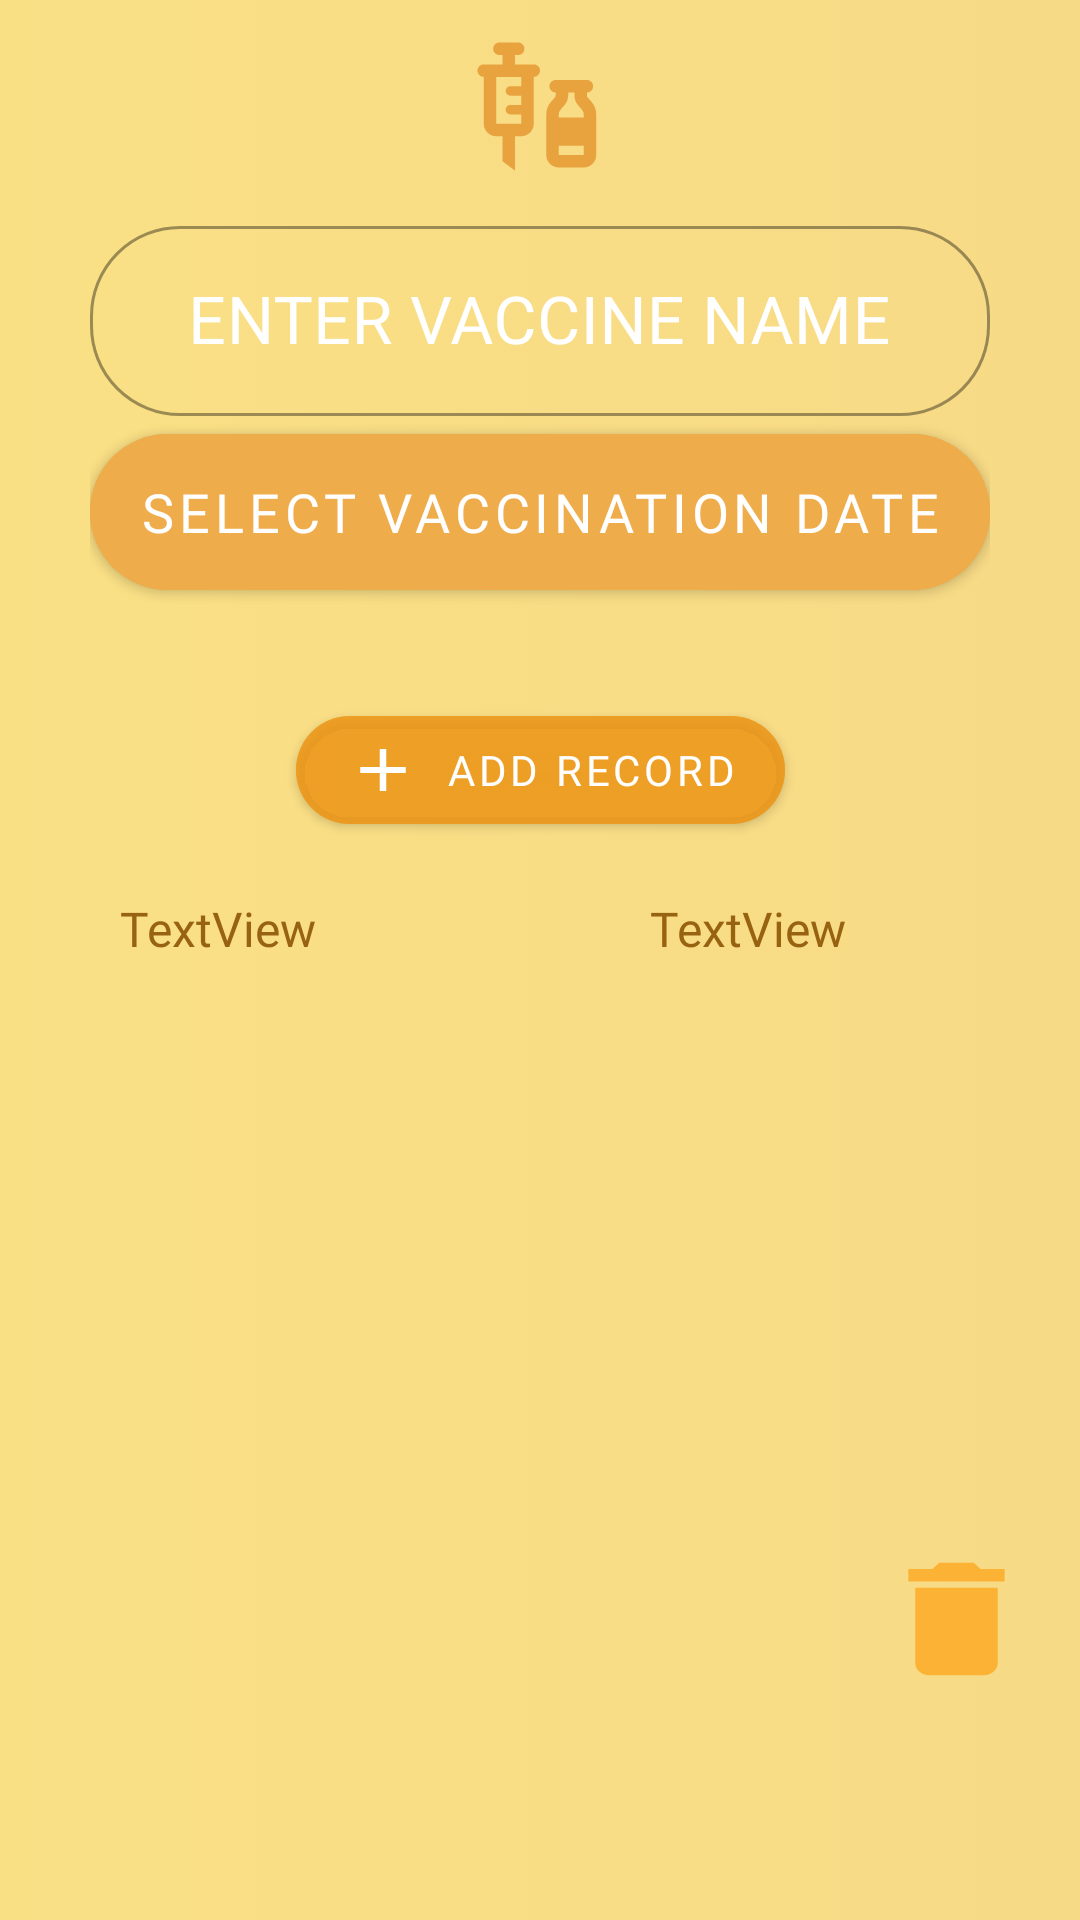

Icons on this 1080*1920 Android screen, each with its box as Rect(x1, y1, x2, y2):
clearhistory: Rect(908, 1563, 1005, 1675)
vaccines: Rect(477, 42, 596, 170)
